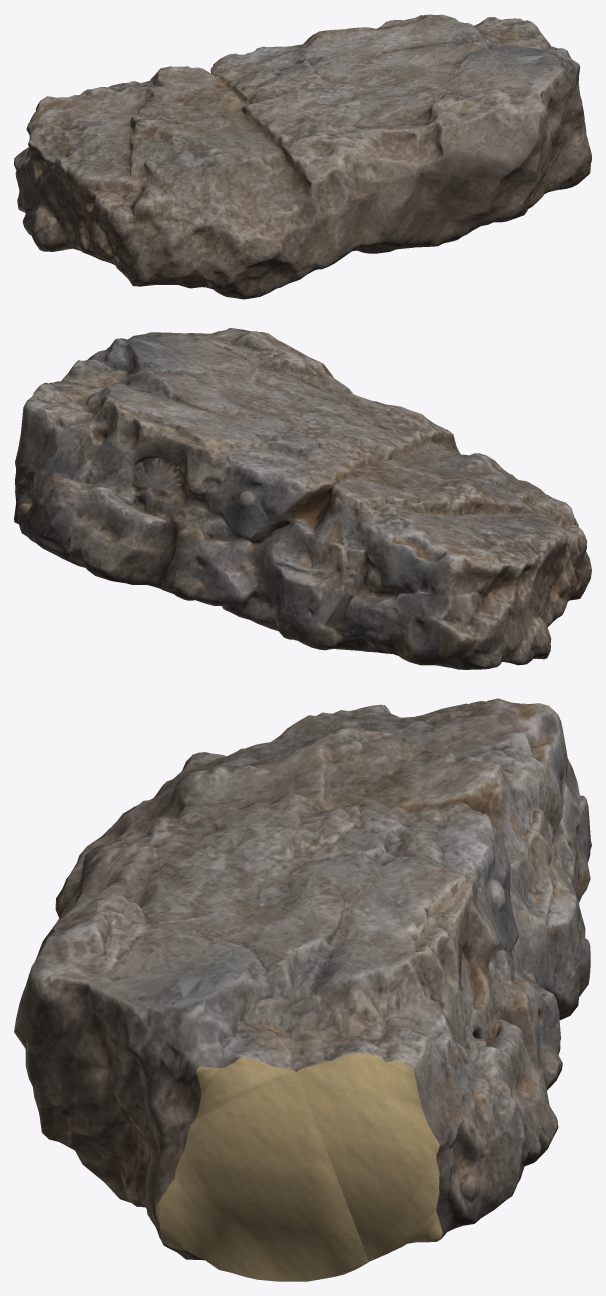
Rendered from shellstone-v1-full-lod0.gltf.
3 views of the same model, one above another, from view 1: azimuth 30°, elevation 25°; view 2: azimuth 150°, elevation 25°; view 3: azimuth 270°, elevation 25° (orthographic). The views are drawn at different scales.
Visible parts, largest first — view 1: shellstone-v1-full-lod0; view 2: shellstone-v1-full-lod0; view 3: shellstone-v1-full-lod0.
Boxes of the visible parts, <box> form: shellstone-v1-full-lod0: <box>14,14,591,299</box>; shellstone-v1-full-lod0: <box>14,328,591,669</box>; shellstone-v1-full-lod0: <box>14,698,591,1281</box>.
Size of the model in its own units: 1.79 by 0.5328 by 1.08.
2 materials, 2 textured.
